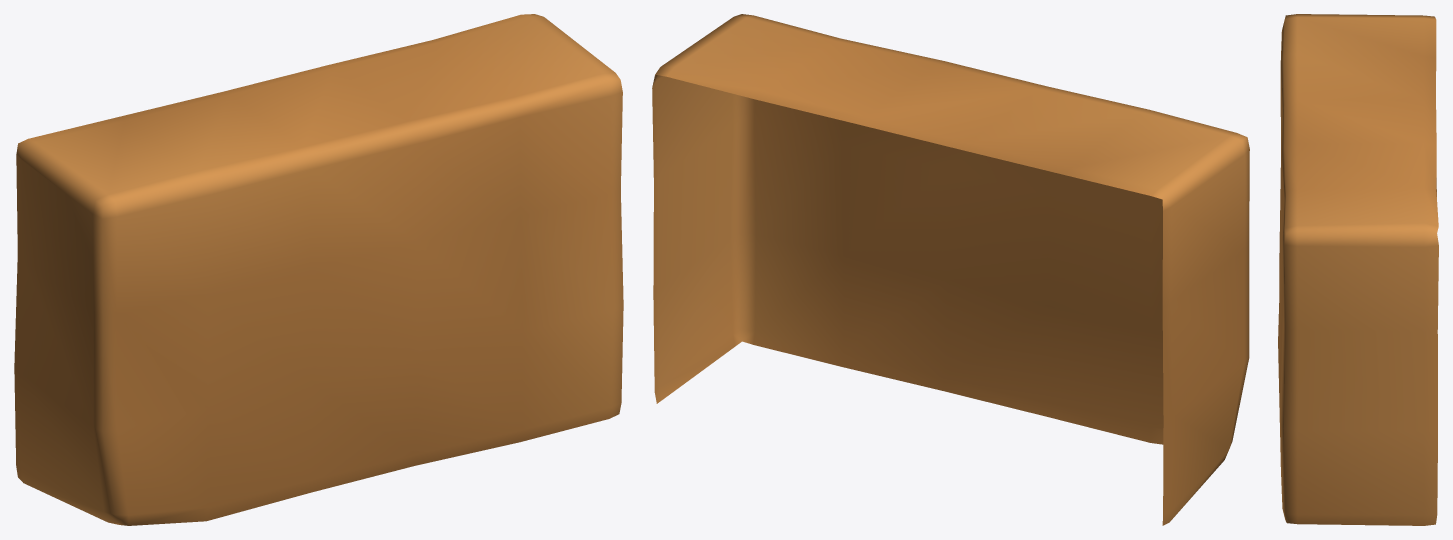
File: block_c.glb
3 renders of one model, left to right at view 1: azimuth 30°, elevation 25°; view 2: azimuth 150°, elevation 25°; view 3: azimuth 270°, elevation 25°, orthographic. The views are drawn at different scales.
Visible parts, largest first — view 1: block_c; view 2: block_c; view 3: block_c.
Boxes of the visible parts, x1,y1,x2,y2 form: block_c: (14, 14, 623, 525); block_c: (652, 14, 1249, 525); block_c: (1278, 14, 1438, 525).
Size of the model in its own units: 1.21 by 0.7552 by 0.3684.
